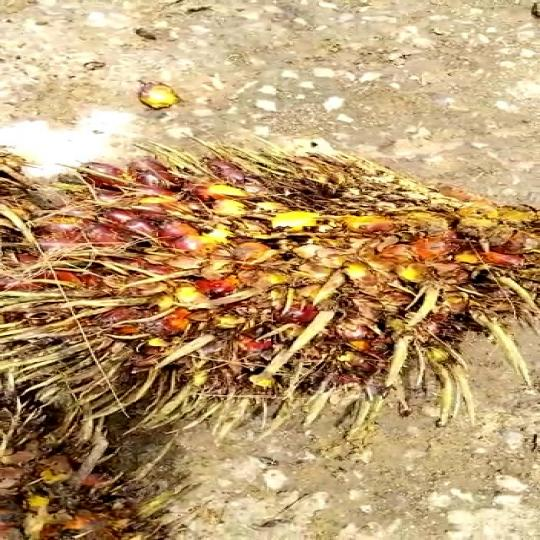masak: (0, 161, 540, 422)
